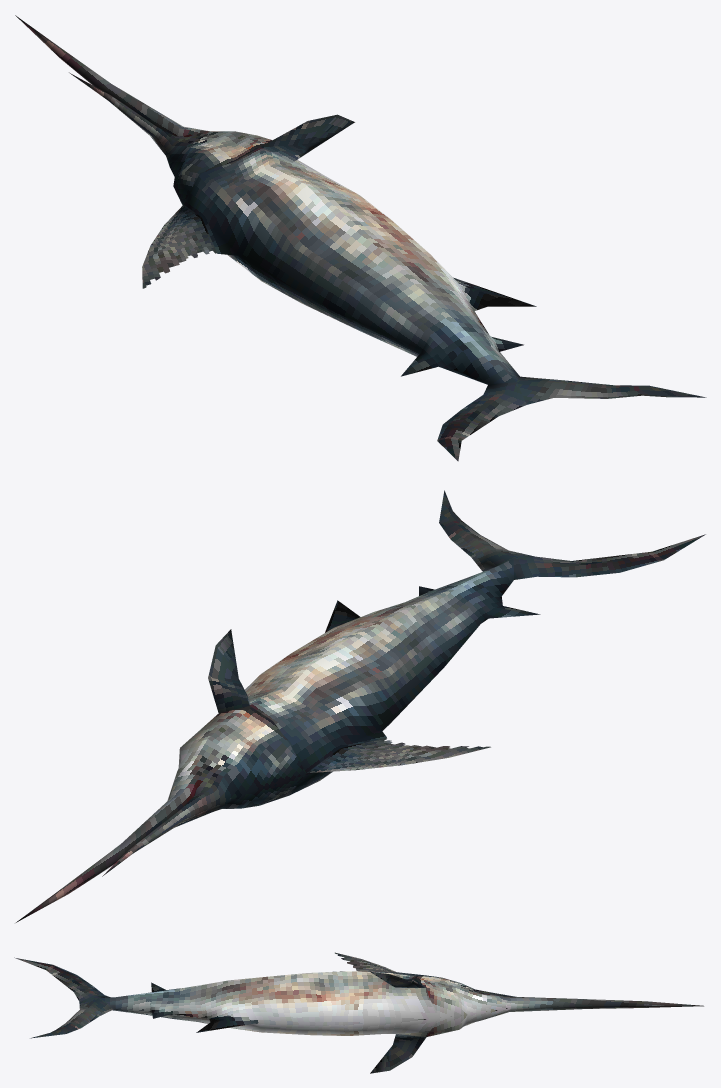
The picture shows the model from 3 angles, top to bottom: view 1: azimuth 30°, elevation 25°; view 2: azimuth 150°, elevation 25°; view 3: azimuth 270°, elevation 25°; orthographic projection. The views are drawn at different scales.
Visible parts, largest first — view 1: mesh00; view 2: mesh00; view 3: mesh00.
Part boxes in pixels (<box>): mesh00: <box>15,15,706,461</box>; mesh00: <box>16,490,705,922</box>; mesh00: <box>14,952,703,1073</box>.
Size of the model in its own units: 93.23 by 49.73 by 306.
1 material, 1 textured.
